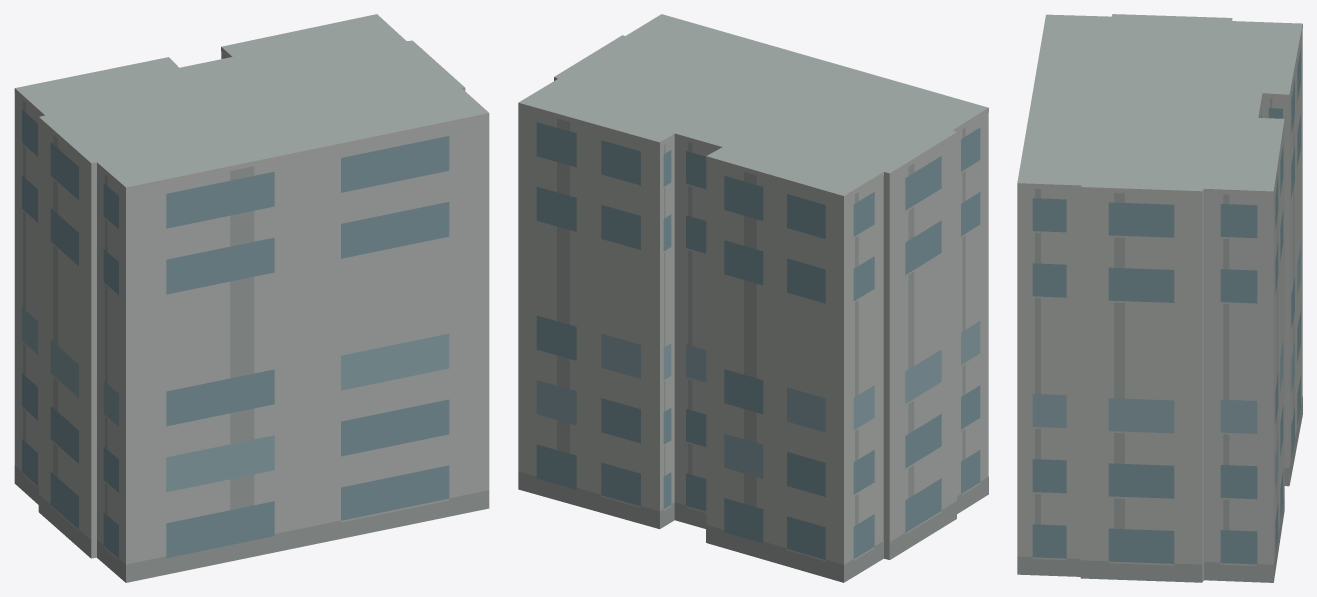
File: survey-upis-33018331.glb
3 renders of one model, left to right at view 1: azimuth 30°, elevation 25°; view 2: azimuth 150°, elevation 25°; view 3: azimuth 270°, elevation 25°, orthographic. The views are drawn at different scales.
Parts seen in each view (by area): view 1: survey-upis-33018331.tmp; view 2: survey-upis-33018331.tmp; view 3: survey-upis-33018331.tmp.
Boxes of the visible parts, <box> form: survey-upis-33018331.tmp: <box>14,14,489,582</box>; survey-upis-33018331.tmp: <box>518,14,988,582</box>; survey-upis-33018331.tmp: <box>1017,14,1302,582</box>.
Bounding box in the file's own units: 18.92 × 19.45 × 12.87.
